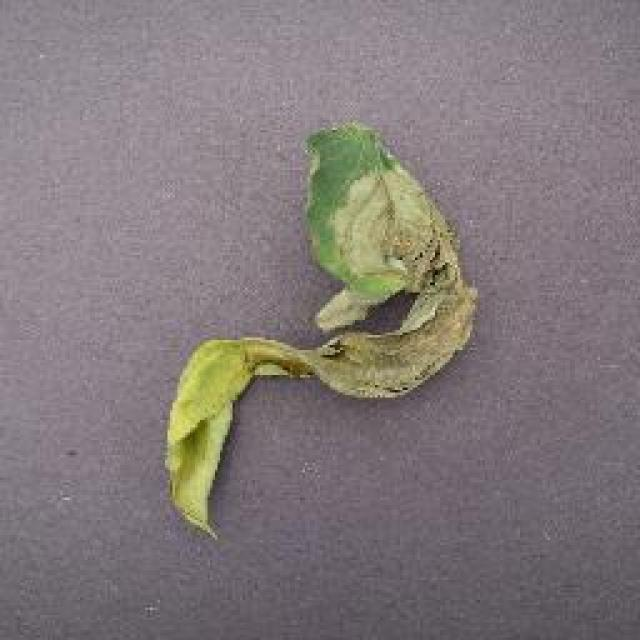Tomato Late Blight: (204, 165, 498, 388)
